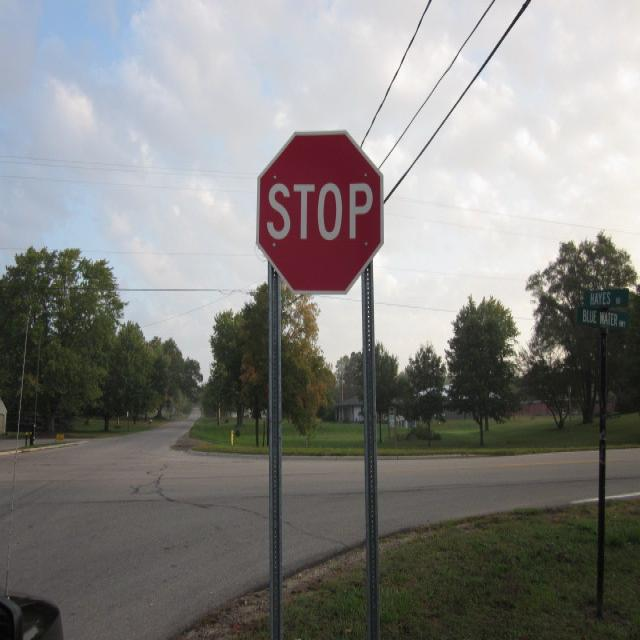stop: (250, 130, 385, 296)
